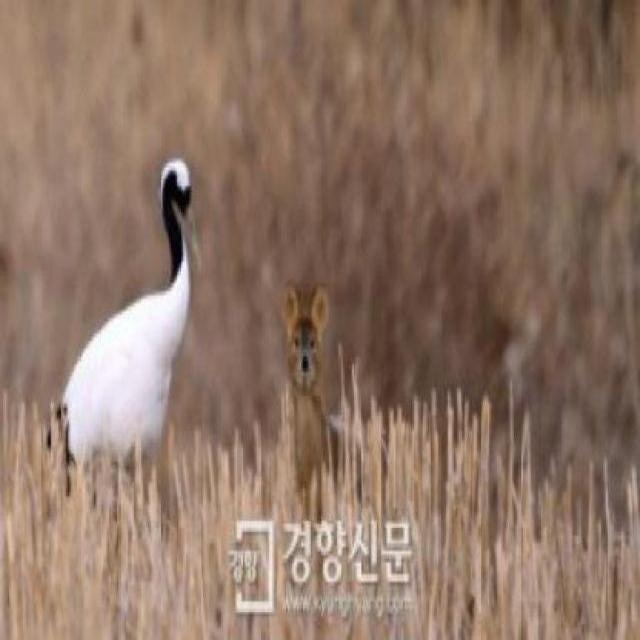deer: (272, 270, 350, 509)
